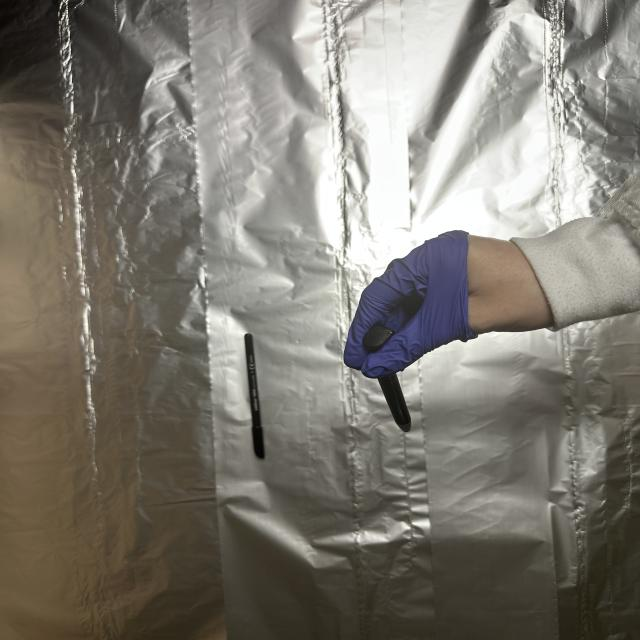glove_partial: (342, 228, 560, 379)
